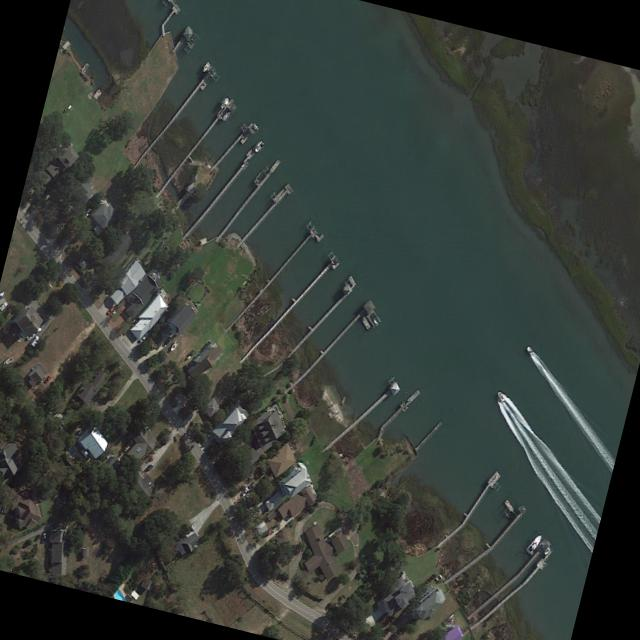ship: (525, 532, 543, 555), (253, 140, 264, 155), (220, 95, 229, 110), (2, 356, 13, 367), (201, 61, 210, 73), (496, 390, 505, 401), (0, 300, 8, 312), (170, 340, 178, 352), (526, 345, 534, 356)
small-vehicle: (247, 479, 256, 490), (107, 304, 115, 315), (43, 375, 51, 384), (138, 334, 146, 343), (241, 486, 248, 496), (42, 532, 47, 542)
